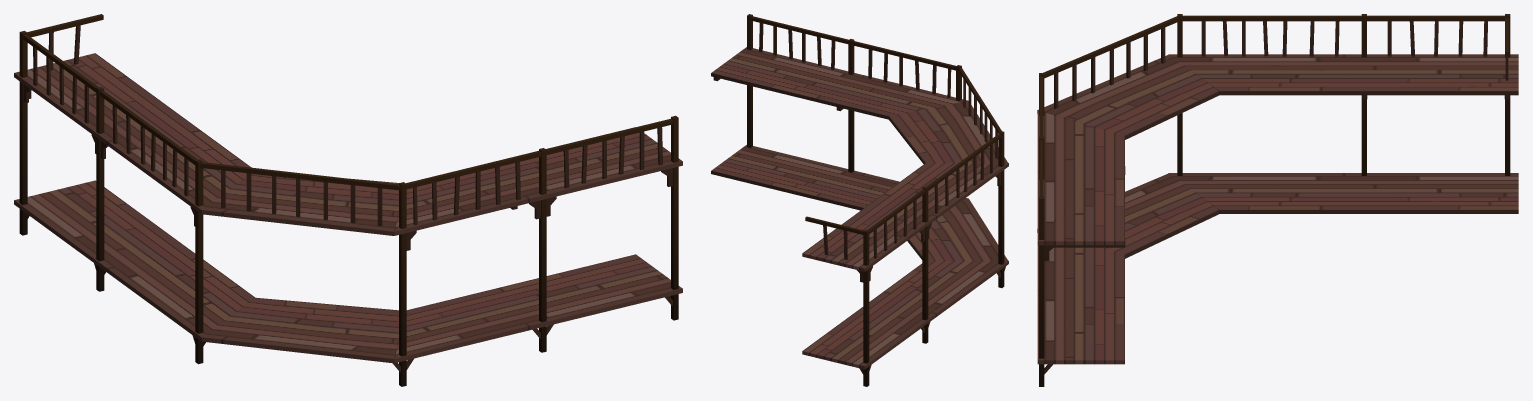
The model's file is Deck Big L.glb.
3 renders of one model, left to right at view 1: azimuth 30°, elevation 25°; view 2: azimuth 150°, elevation 25°; view 3: azimuth 270°, elevation 25°, orthographic. The views are drawn at different scales.
Parts seen in each view (by area): view 1: Deck Big L; view 2: Deck Big L; view 3: Deck Big L.
Part boxes in pixels (left/top/right/bottom): Deck Big L: left=14, top=14, right=682, bottom=386; Deck Big L: left=711, top=14, right=1008, bottom=386; Deck Big L: left=1037, top=14, right=1518, bottom=386.
Size of what is drawn, in the model's own units: 10.11 by 4.74 by 10.99.
Materials: 2 (2 with a texture image).
